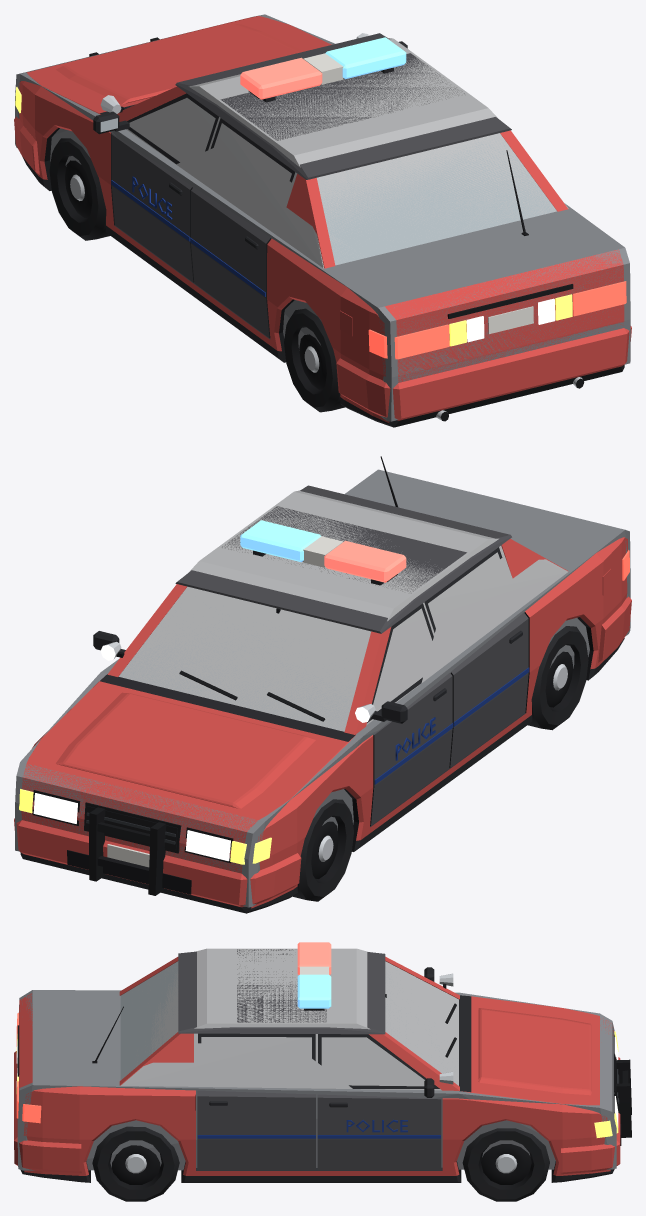
The model's file is car_police.glb.
3 views of the same model, one above another, from view 1: azimuth 30°, elevation 25°; view 2: azimuth 150°, elevation 25°; view 3: azimuth 270°, elevation 25° (orthographic). The views are drawn at different scales.
Visible parts, largest first — view 1: car_police__body, car_police__col_cabin, car_police__col_body, car_police__door_fl, car_police__door_rl, car_police__wheel_fl, car_police__wheel_rl; view 2: car_police__body, car_police__col_cabin, car_police__col_body, car_police__door_fl, car_police__door_rl, car_police__wheel_rl, car_police__wheel_fl; view 3: car_police__body, car_police__col_cabin, car_police__col_body, car_police__door_fr, car_police__door_rr, car_police__wheel_fr, car_police__wheel_rr.
Part boxes in pixels (left/top/right/bottom): car_police__body: left=14, top=16, right=631, bottom=427; car_police__col_cabin: left=126, top=37, right=568, bottom=268; car_police__col_body: left=15, top=14, right=630, bottom=421; car_police__door_fl: left=93, top=93, right=218, bottom=282; car_police__door_rl: left=190, top=118, right=295, bottom=338; car_police__wheel_fl: left=49, top=138, right=110, bottom=240; car_police__wheel_rl: left=284, top=308, right=345, bottom=412; car_police__body: left=14, top=456, right=631, bottom=913; car_police__col_cabin: left=118, top=490, right=568, bottom=731; car_police__col_body: left=15, top=469, right=630, bottom=907; car_police__door_fl: left=367, top=603, right=453, bottom=825; car_police__door_rl: left=424, top=547, right=529, bottom=767; car_police__wheel_rl: left=528, top=626, right=588, bottom=730; car_police__wheel_fl: left=293, top=799, right=353, bottom=901; car_police__body: left=14, top=942, right=631, bottom=1182; car_police__col_cabin: left=120, top=948, right=458, bottom=1090; car_police__col_body: left=17, top=990, right=616, bottom=1170; car_police__door_fr: left=317, top=1034, right=441, bottom=1170; car_police__door_rr: left=197, top=1033, right=315, bottom=1170; car_police__wheel_fr: left=462, top=1128, right=549, bottom=1201; car_police__wheel_rr: left=92, top=1126, right=179, bottom=1201.
Size of what is drawn, in the model's own units: 2.28 by 1.64 by 4.96.
13 materials, 2 textured.
